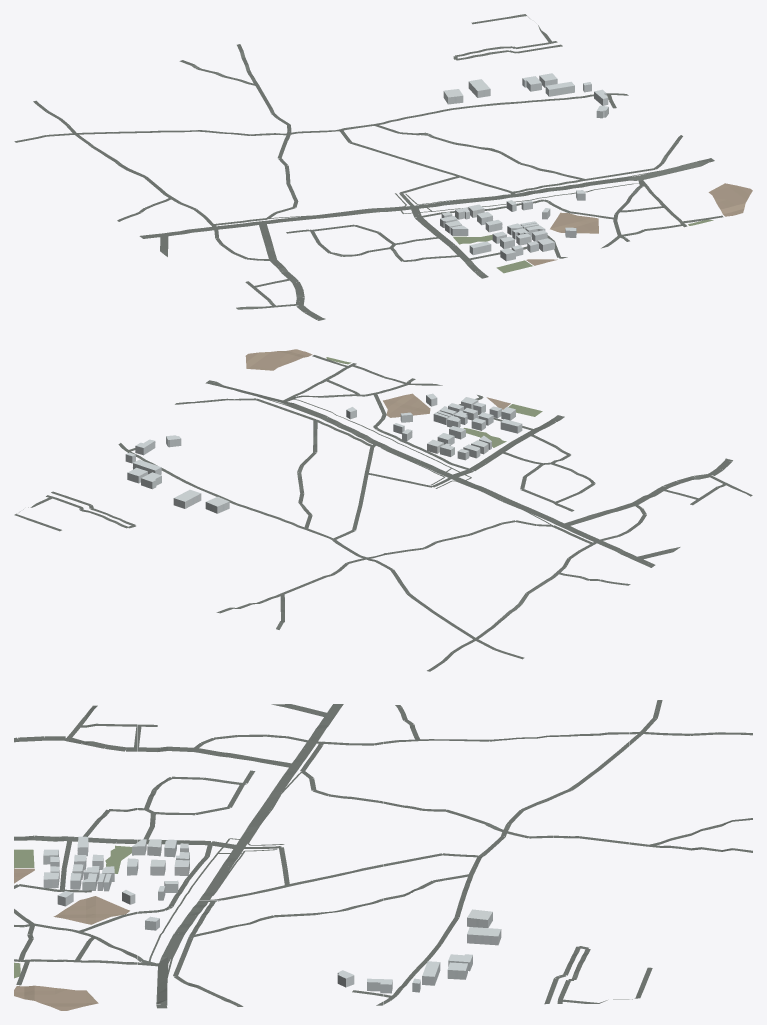
3 renders of one model, top to bottom at view 1: azimuth 30°, elevation 25°; view 2: azimuth 150°, elevation 25°; view 3: azimuth 270°, elevation 25°, orthographic. The views are drawn at different scales.
Parts seen in each view (by area): view 1: osm-roads, context_farmland-patches; view 2: osm-roads, context_farmland-patches; view 3: osm-roads, context_farmland-patches, osm-building-1236762746.
Part boxes in pixels (x1,y1,x2,y2): osm-roads: (14, 14, 723, 320); context_farmland-patches: (453, 183, 752, 273); osm-roads: (14, 355, 752, 671); context_farmland-patches: (245, 349, 542, 447); osm-roads: (14, 700, 752, 1008); context_farmland-patches: (14, 845, 131, 1010); osm-building-1236762746: (467, 927, 501, 945).
Size of the model in its own units: 720 by 24.14 by 720.
Materials: 9 (1 with a texture image).
